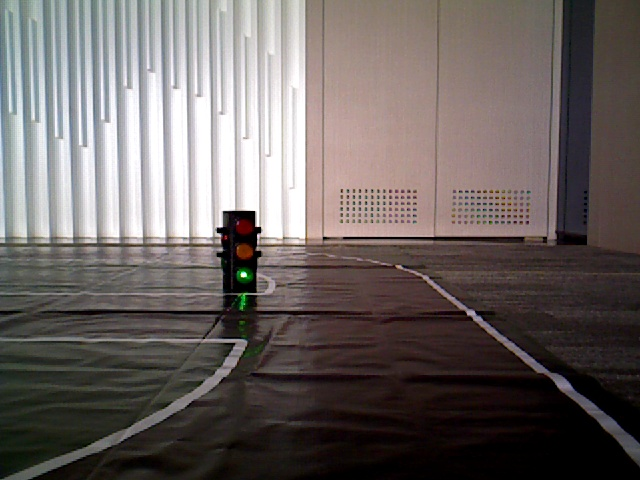green: (229, 213, 255, 285)
